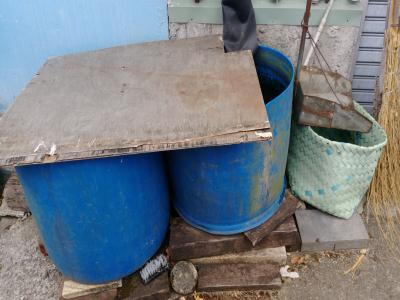bucket: (168, 40, 298, 236), (16, 157, 171, 287)
plastic_bag: (285, 91, 386, 222)
